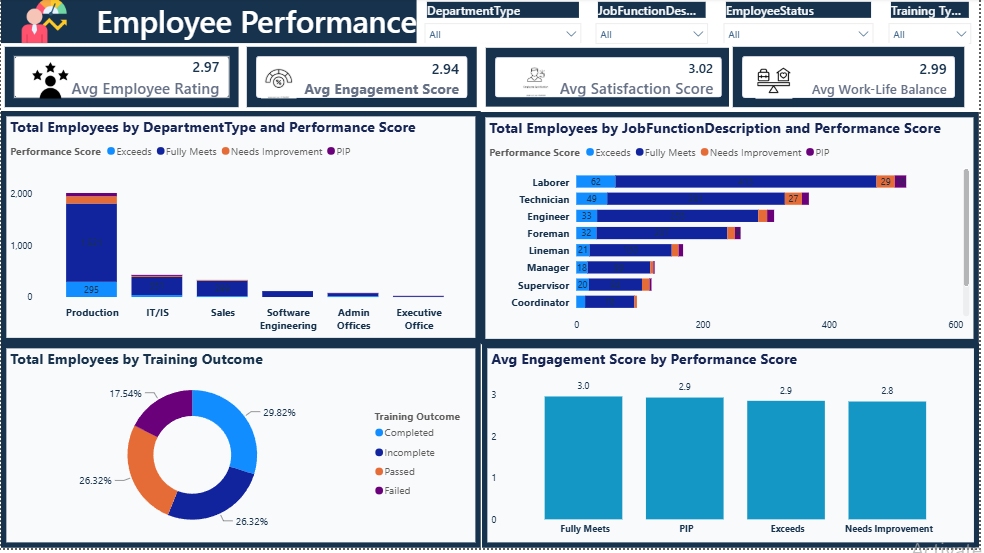

The page's visual inventory and layout, read from the dashboard file:
{"tool":"powerbi","page":{"name":"Employee Performance","canvas":[1280,720],"ordinal":1},"visuals":[{"type":"columnChart","fields":{"Category":["Messy_HR_Dataset_Detailed.DepartmentType"],"Y":["All_Measures.Total Employees"],"Series":["Messy_HR_Dataset_Detailed.Performance Score"]},"box":[0,148.3,627.8,303.8],"z":0},{"type":"barChart","fields":{"Category":["Messy_HR_Dataset_Detailed.JobFunctionDescription"],"Y":["All_Measures.Total Employees"],"Series":["Messy_HR_Dataset_Detailed.Performance Score"]},"box":[627.5,148.8,652.5,303.8],"z":1000},{"type":"clusteredColumnChart","fields":{"Category":["Messy_HR_Dataset_Detailed.Performance Score"],"Y":["All_Measures.Average Engagement Score"]},"box":[629.3,452.2,650.9,267.8],"z":2000},{"type":"donutChart","fields":{"Category":["Messy_HR_Dataset_Detailed.Training Outcome"],"Y":["All_Measures.Total Employees"]},"box":[0,452.2,627.8,267.8],"z":3000},{"type":"slicer","fields":{"Values":["Messy_HR_Dataset_Detailed.DepartmentType"]},"box":[544.3,0,224.6,59],"z":4000},{"type":"slicer","fields":{"Values":["Messy_HR_Dataset_Detailed.JobFunctionDescription"]},"box":[769,0,167,66.2],"z":5000},{"type":"slicer","fields":{"Values":["Messy_HR_Dataset_Detailed.EmployeeStatus"]},"box":[936,0,216,59],"z":6000},{"type":"slicer","fields":{"Values":["Messy_HR_Dataset_Detailed.Training Type"]},"box":[1152,0,128.2,60.5],"z":7000},{"type":"cardVisual","fields":{"Data":["All_Measures.Avg Engagement Score"]},"box":[316.8,59,311,89.3],"z":8000},{"type":"cardVisual","fields":{"Data":["All_Measures.Avg Employee Rating"]},"box":[0,59,316.8,89.3],"z":9000},{"type":"cardVisual","fields":{"Data":["All_Measures.Avg Satisfaction Score"]},"box":[629.3,60.5,331.2,87.8],"z":10000},{"type":"cardVisual","fields":{"Data":["All_Measures.Avg Work-Life Balance"]},"box":[953.3,59,313.9,89.3],"z":11000},{"type":"image","box":[15.8,83.5,97.9,47.5],"z":12000},{"type":"image","box":[332.6,82.1,61.9,49],"z":13000},{"type":"image","box":[656.6,80.6,86.4,47.5],"z":14000},{"type":"image","box":[960.5,83.5,102.2,47.5],"z":15000},{"type":"shape","box":[0,0,544.3,59],"z":16000},{"type":"image","box":[0,0,113.8,59],"z":17000}]}

Visuals, with their boxes in screenshot pixels (x1, y1, x2, y2), scaled from the page's 1280x720 canvas onto the 984x553 screenshot:
columnChart - Messy_HR_Dataset_Detailed.DepartmentType x All_Measures.Total Employees: (0,114,483,347)
barChart - Messy_HR_Dataset_Detailed.JobFunctionDescription x All_Measures.Total Employees: (482,114,983,348)
clusteredColumnChart - Messy_HR_Dataset_Detailed.Performance Score x All_Measures.Average Engagement Score: (484,347,983,552)
donutChart - Messy_HR_Dataset_Detailed.Training Outcome x All_Measures.Total Employees: (0,347,483,552)
slicer - Messy_HR_Dataset_Detailed.DepartmentType: (418,0,591,45)
slicer - Messy_HR_Dataset_Detailed.JobFunctionDescription: (591,0,720,51)
slicer - Messy_HR_Dataset_Detailed.EmployeeStatus: (720,0,886,45)
slicer - Messy_HR_Dataset_Detailed.Training Type: (886,0,983,46)
cardVisual - All_Measures.Avg Engagement Score: (244,45,483,114)
cardVisual - All_Measures.Avg Employee Rating: (0,45,244,114)
cardVisual - All_Measures.Avg Satisfaction Score: (484,46,738,114)
cardVisual - All_Measures.Avg Work-Life Balance: (733,45,974,114)
image: (12,64,87,101)
image: (256,63,303,101)
image: (505,62,571,98)
image: (738,64,817,101)
shape: (0,0,418,45)
image: (0,0,87,45)
